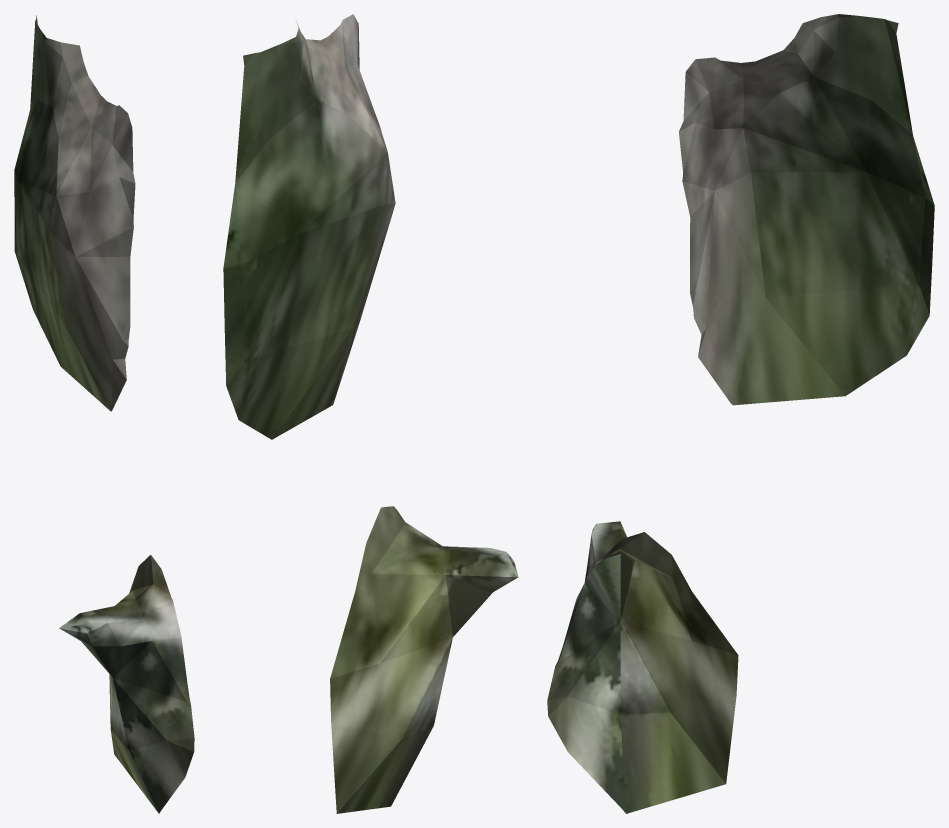
The picture shows the model from 3 angles, left to right: view 1: azimuth 30°, elevation 25°; view 2: azimuth 150°, elevation 25°; view 3: azimuth 270°, elevation 25°; orthographic projection. The views are drawn at different scales.
Bounding box in the file's own units: 0.4134 × 2.73 × 1.21.
Materials: 1 (1 with a texture image).
